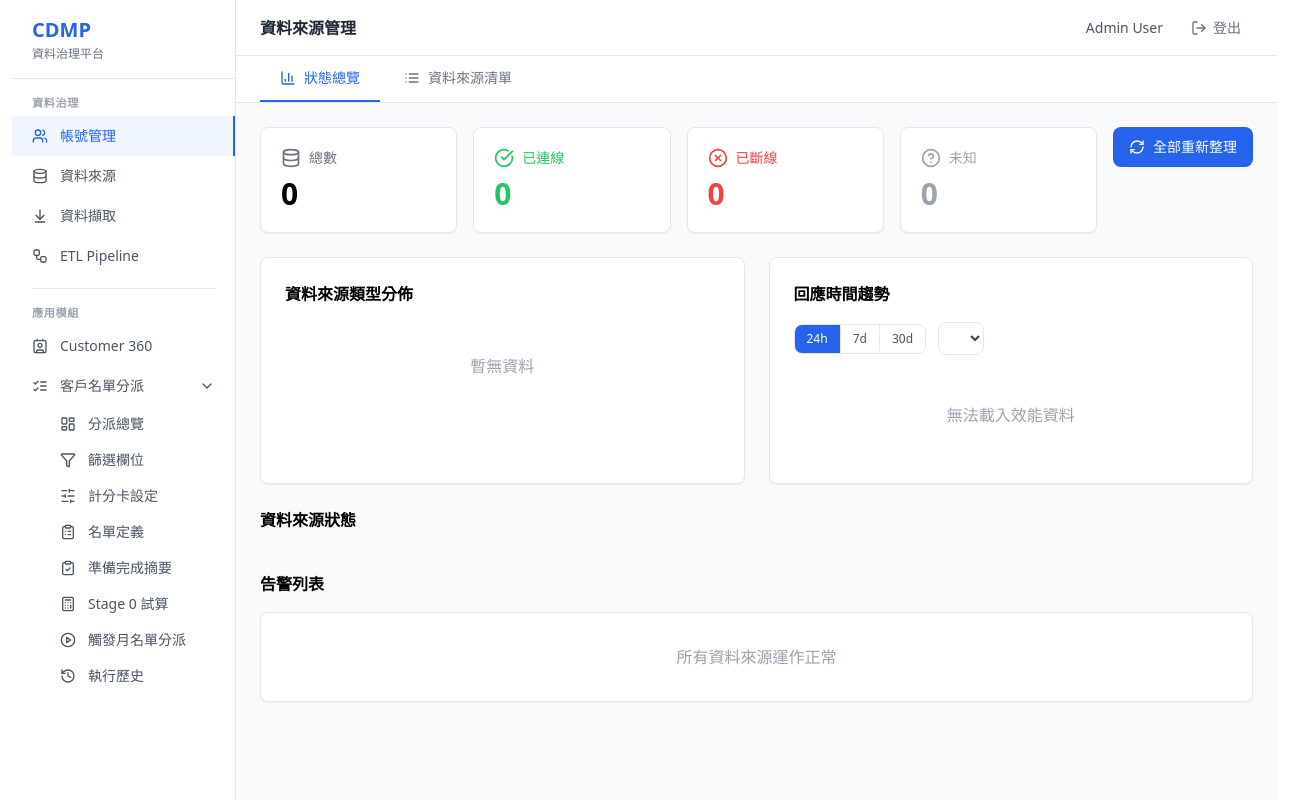
DatasourceListPage › 渲染測試 › should render datasource list on load
Click the tab with test id "tab-list": (458, 79) [384,56,532,102]
Wait 1350 ms
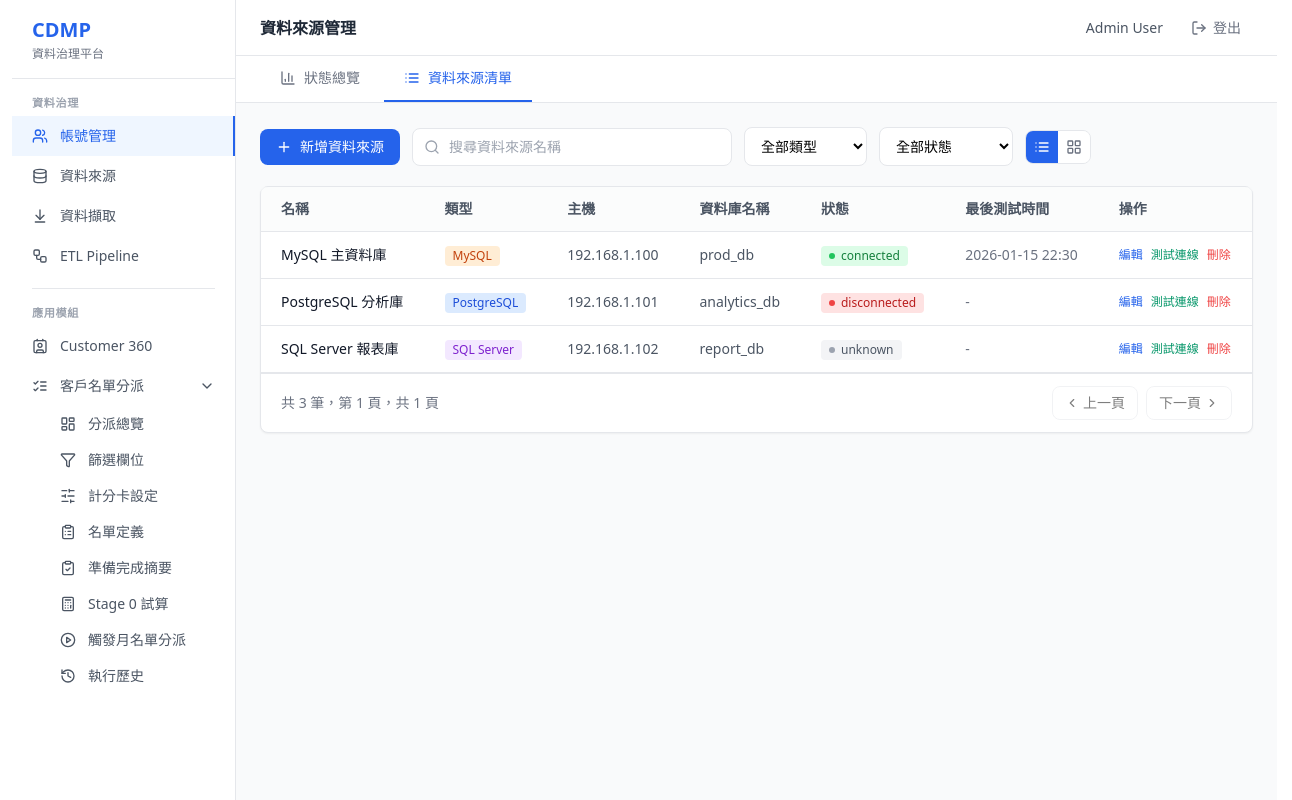
Check: the text "MySQL 主資料庫" is shown, box [261,232,424,278]
Check: the text "PostgreSQL 分析庫" is shown, box [261,278,424,326]
Check: the text "SQL Server 報表庫" is shown, box [261,326,424,372]
